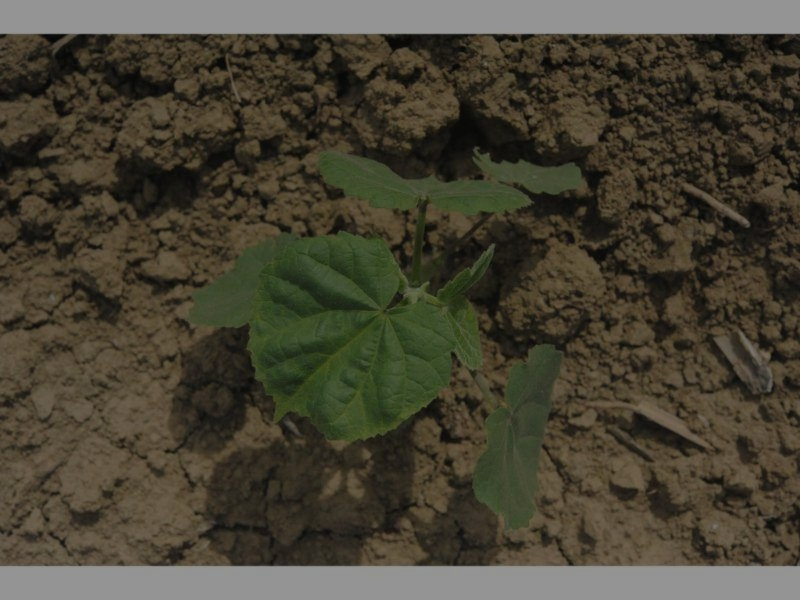velvet: (189, 151, 584, 532)
